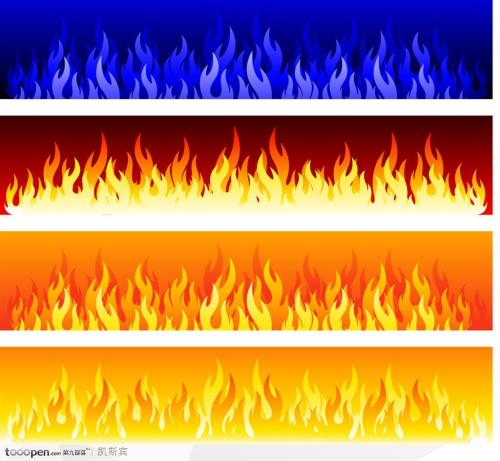fire: (13, 266, 484, 328), (13, 151, 485, 212), (27, 396, 479, 437)
